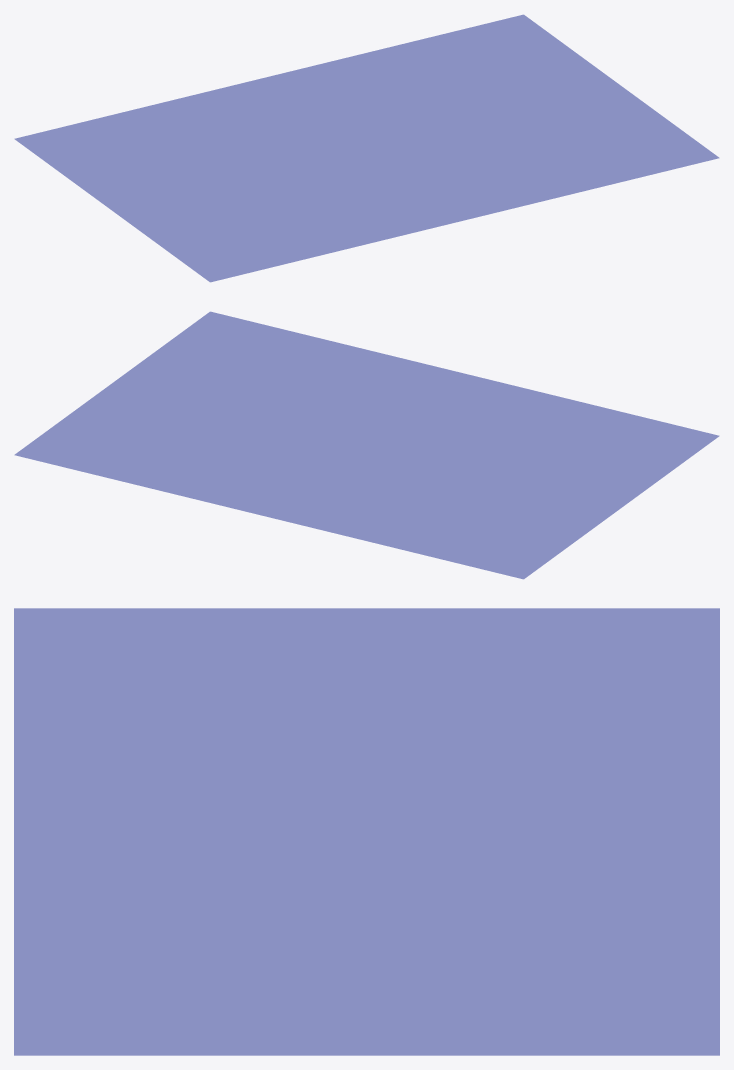
File: Floor_3x_2x.FBX
The picture shows the model from 3 angles, top to bottom: view 1: azimuth 30°, elevation 25°; view 2: azimuth 150°, elevation 25°; view 3: azimuth 270°, elevation 25°; orthographic projection. The views are drawn at different scales.
Parts seen in each view (by area): view 1: Floor_3x_2x; view 2: Floor_3x_2x; view 3: Floor_3x_2x.
Boxes of the visible parts, x1,y1,x2,y2 form: Floor_3x_2x: (14,14,719,282); Floor_3x_2x: (14,311,719,579); Floor_3x_2x: (14,608,719,1055).
Bounding box in the file's own units: 300 × 200 × 8.74e-06.
